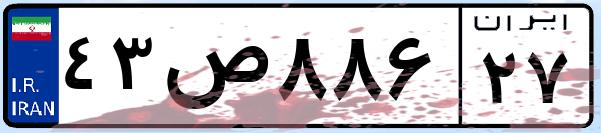2: (475, 38, 525, 113)
3: (110, 28, 158, 98)
4: (57, 26, 110, 100)
6: (385, 28, 445, 110)
7: (525, 38, 570, 115)
8: (270, 28, 330, 110), (330, 28, 385, 110)
ص: (158, 20, 270, 120)
